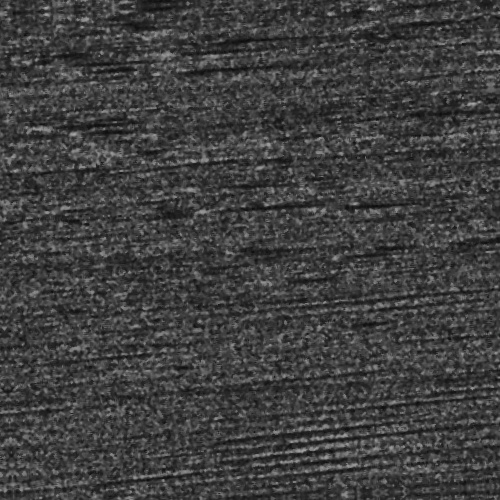object: (196, 202, 227, 207), (148, 46, 189, 49), (304, 204, 325, 209)
shadow: (212, 202, 334, 207), (315, 204, 412, 209), (169, 46, 259, 49)
